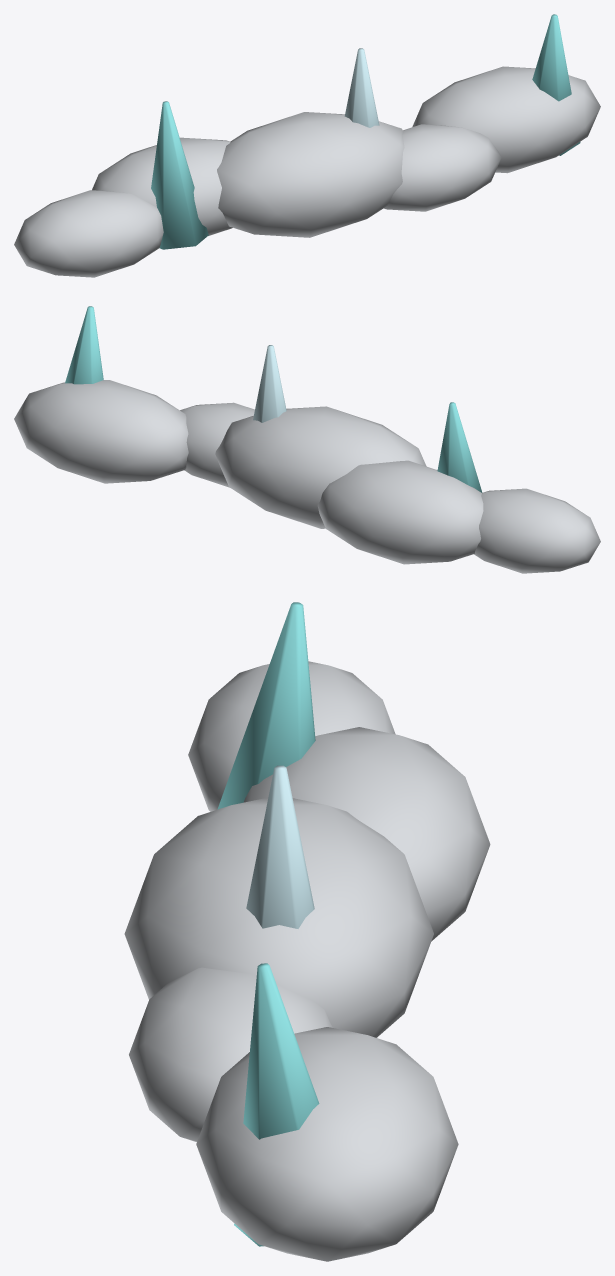
File: slide_snowbank_0.glb
The picture shows the model from 3 angles, top to bottom: view 1: azimuth 30°, elevation 25°; view 2: azimuth 150°, elevation 25°; view 3: azimuth 270°, elevation 25°; orthographic projection. The views are drawn at different scales.
Parts seen in each view (by area): view 1: SnowMass_2, SnowMass_4, SnowMass_0, SnowMass_3, SnowMass_1, IceMarker_0, IceMarker_2, IceMarker_1; view 2: SnowMass_2, SnowMass_4, SnowMass_1, SnowMass_0, SnowMass_3, IceMarker_0, IceMarker_2, IceMarker_1; view 3: SnowMass_2, SnowMass_4, SnowMass_1, SnowMass_3, SnowMass_0, IceMarker_0, IceMarker_2, IceMarker_1.
Boxes of the visible parts, left/top/right/bottom form: SnowMass_2: left=217, top=112, right=404, bottom=237; SnowMass_4: left=412, top=66, right=600, bottom=173; SnowMass_0: left=14, top=190, right=163, bottom=277; SnowMass_3: left=384, top=124, right=501, bottom=211; SnowMass_1: left=92, top=137, right=232, bottom=235; IceMarker_0: left=151, top=101, right=208, bottom=249; IceMarker_2: left=532, top=14, right=580, bottom=155; IceMarker_1: left=344, top=48, right=379, bottom=127; SnowMass_2: left=215, top=406, right=426, bottom=528; SnowMass_4: left=14, top=380, right=188, bottom=483; SnowMass_1: left=317, top=460, right=483, bottom=564; SnowMass_0: left=474, top=488, right=600, bottom=573; SnowMass_3: left=180, top=402, right=254, bottom=487; IceMarker_0: left=437, top=402, right=482, bottom=492; IceMarker_2: left=65, top=306, right=103, bottom=384; IceMarker_1: left=253, top=345, right=286, bottom=422; SnowMass_2: left=124, top=797, right=433, bottom=1037; SnowMass_4: left=196, top=1027, right=458, bottom=1261; SnowMass_1: left=243, top=727, right=490, bottom=941; SnowMass_3: left=129, top=967, right=332, bottom=1141; SnowMass_0: left=188, top=661, right=395, bottom=811; IceMarker_0: left=217, top=602, right=315, bottom=809; IceMarker_2: left=234, top=963, right=319, bottom=1246; IceMarker_1: left=246, top=765, right=314, bottom=928.
Size of the model in its own units: 8.48 by 2.31 by 2.4.
